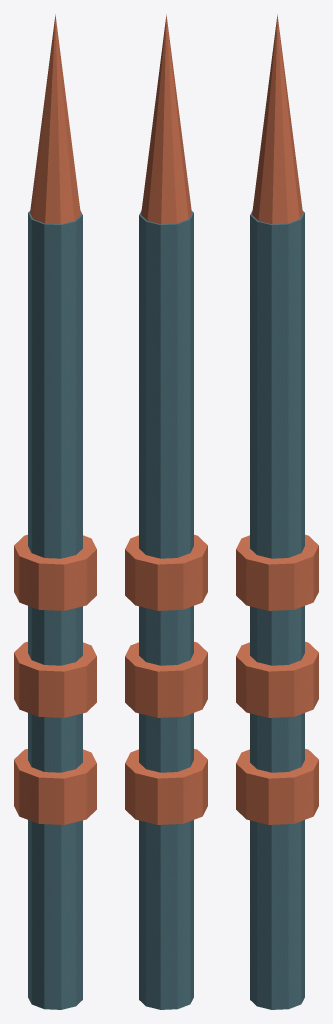
File: atlas100-s042-a05.glb
3 renders of one model, left to right at view 1: azimuth 30°, elevation 25°; view 2: azimuth 150°, elevation 25°; view 3: azimuth 330°, elevation 25°, orthographic.
Parts seen in each view (by area): view 1: atlas100-s042-a05:part-000, atlas100-s042-a05:part-004, atlas100-s042-a05:part-001, atlas100-s042-a05:part-002, atlas100-s042-a05:part-003; view 2: atlas100-s042-a05:part-000, atlas100-s042-a05:part-004, atlas100-s042-a05:part-001, atlas100-s042-a05:part-002, atlas100-s042-a05:part-003; view 3: atlas100-s042-a05:part-000, atlas100-s042-a05:part-004, atlas100-s042-a05:part-001, atlas100-s042-a05:part-002, atlas100-s042-a05:part-003.
Part boxes in pixels (left/top/right/bottom): atlas100-s042-a05:part-000: left=28, top=210, right=82, bottom=1009; atlas100-s042-a05:part-004: left=30, top=14, right=80, bottom=224; atlas100-s042-a05:part-001: left=14, top=749, right=96, bottom=824; atlas100-s042-a05:part-002: left=14, top=641, right=96, bottom=717; atlas100-s042-a05:part-003: left=14, top=534, right=96, bottom=610; atlas100-s042-a05:part-000: left=139, top=210, right=193, bottom=1009; atlas100-s042-a05:part-004: left=141, top=14, right=191, bottom=224; atlas100-s042-a05:part-001: left=125, top=749, right=207, bottom=824; atlas100-s042-a05:part-002: left=125, top=641, right=207, bottom=717; atlas100-s042-a05:part-003: left=125, top=534, right=207, bottom=610; atlas100-s042-a05:part-000: left=250, top=210, right=304, bottom=1009; atlas100-s042-a05:part-004: left=252, top=14, right=302, bottom=224; atlas100-s042-a05:part-001: left=236, top=749, right=318, bottom=824; atlas100-s042-a05:part-002: left=236, top=641, right=318, bottom=717; atlas100-s042-a05:part-003: left=236, top=534, right=318, bottom=610.
Bounding box in the file's own units: 0.1158 × 1.51 × 0.1101.
Materials: 2 (2 with a texture image).
